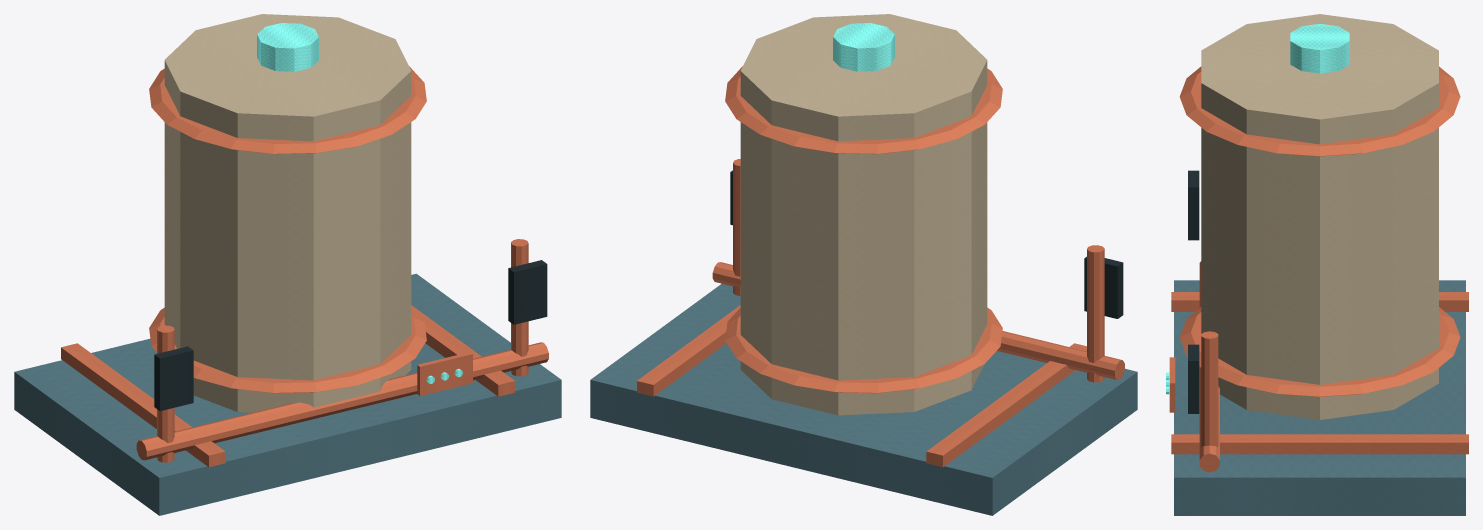
File: atlas100-s042-a06.glb
3 renders of one model, left to right at view 1: azimuth 30°, elevation 25°; view 2: azimuth 150°, elevation 25°; view 3: azimuth 270°, elevation 25°, orthographic.
Parts seen in each view (by area): view 1: atlas100-s042-a06:part-003, atlas100-s042-a06:part-000, atlas100-s042-a06:part-012, atlas100-s042-a06:part-005, atlas100-s042-a06:part-004, atlas100-s042-a06:part-001, atlas100-s042-a06:part-006, atlas100-s042-a06:part-009, atlas100-s042-a06:part-011, atlas100-s042-a06:part-002, atlas100-s042-a06:part-013, atlas100-s042-a06:part-010 (+1 smaller); view 2: atlas100-s042-a06:part-003, atlas100-s042-a06:part-000, atlas100-s042-a06:part-005, atlas100-s042-a06:part-004, atlas100-s042-a06:part-001, atlas100-s042-a06:part-012, atlas100-s042-a06:part-006, atlas100-s042-a06:part-002, atlas100-s042-a06:part-008, atlas100-s042-a06:part-009, atlas100-s042-a06:part-010; view 3: atlas100-s042-a06:part-003, atlas100-s042-a06:part-000, atlas100-s042-a06:part-002, atlas100-s042-a06:part-005, atlas100-s042-a06:part-004, atlas100-s042-a06:part-006, atlas100-s042-a06:part-010, atlas100-s042-a06:part-001, atlas100-s042-a06:part-012, atlas100-s042-a06:part-009, atlas100-s042-a06:part-011, atlas100-s042-a06:part-013.
Part boxes in pixels (x1=…): atlas100-s042-a06:part-003: x1=164, y1=14, x2=411, y2=412; atlas100-s042-a06:part-000: x1=14, y1=273, x2=561, y2=515; atlas100-s042-a06:part-012: x1=136, y1=342, x2=548, y2=460; atlas100-s042-a06:part-005: x1=149, y1=66, x2=426, y2=154; atlas100-s042-a06:part-004: x1=149, y1=307, x2=426, y2=393; atlas100-s042-a06:part-001: x1=61, y1=343, x2=225, y2=467; atlas100-s042-a06:part-006: x1=257, y1=23, x2=318, y2=71; atlas100-s042-a06:part-009: x1=154, y1=346, x2=193, y2=410; atlas100-s042-a06:part-011: x1=508, y1=260, x2=547, y2=324; atlas100-s042-a06:part-002: x1=411, y1=305, x2=514, y2=396; atlas100-s042-a06:part-013: x1=417, y1=352, x2=472, y2=395; atlas100-s042-a06:part-010: x1=511, y1=239, x2=528, y2=376; atlas100-s042-a06:part-003: x1=740, y1=14, x2=987, y2=415; atlas100-s042-a06:part-000: x1=590, y1=284, x2=1137, y2=515; atlas100-s042-a06:part-005: x1=725, y1=66, x2=1002, y2=154; atlas100-s042-a06:part-004: x1=725, y1=307, x2=1002, y2=393; atlas100-s042-a06:part-001: x1=926, y1=343, x2=1086, y2=467; atlas100-s042-a06:part-012: x1=712, y1=262, x2=1124, y2=379; atlas100-s042-a06:part-006: x1=833, y1=23, x2=894, y2=71; atlas100-s042-a06:part-002: x1=637, y1=305, x2=740, y2=396; atlas100-s042-a06:part-008: x1=1087, y1=245, x2=1104, y2=382; atlas100-s042-a06:part-009: x1=1084, y1=256, x2=1123, y2=318; atlas100-s042-a06:part-010: x1=733, y1=159, x2=740, y2=296; atlas100-s042-a06:part-003: x1=1201, y1=14, x2=1438, y2=419; atlas100-s042-a06:part-000: x1=1174, y1=280, x2=1465, y2=515; atlas100-s042-a06:part-002: x1=1171, y1=434, x2=1468, y2=454; atlas100-s042-a06:part-005: x1=1179, y1=66, x2=1460, y2=156; atlas100-s042-a06:part-004: x1=1179, y1=307, x2=1460, y2=396; atlas100-s042-a06:part-006: x1=1290, y1=24, x2=1349, y2=73; atlas100-s042-a06:part-010: x1=1201, y1=331, x2=1218, y2=447; atlas100-s042-a06:part-001: x1=1171, y1=292, x2=1468, y2=311; atlas100-s042-a06:part-012: x1=1199, y1=261, x2=1219, y2=472; atlas100-s042-a06:part-009: x1=1188, y1=170, x2=1199, y2=240; atlas100-s042-a06:part-011: x1=1188, y1=344, x2=1199, y2=413; atlas100-s042-a06:part-013: x1=1169, y1=357, x2=1175, y2=412.
Size of the model in its own units: 2.88 by 2.59 by 1.87.
5 materials, 5 textured.
